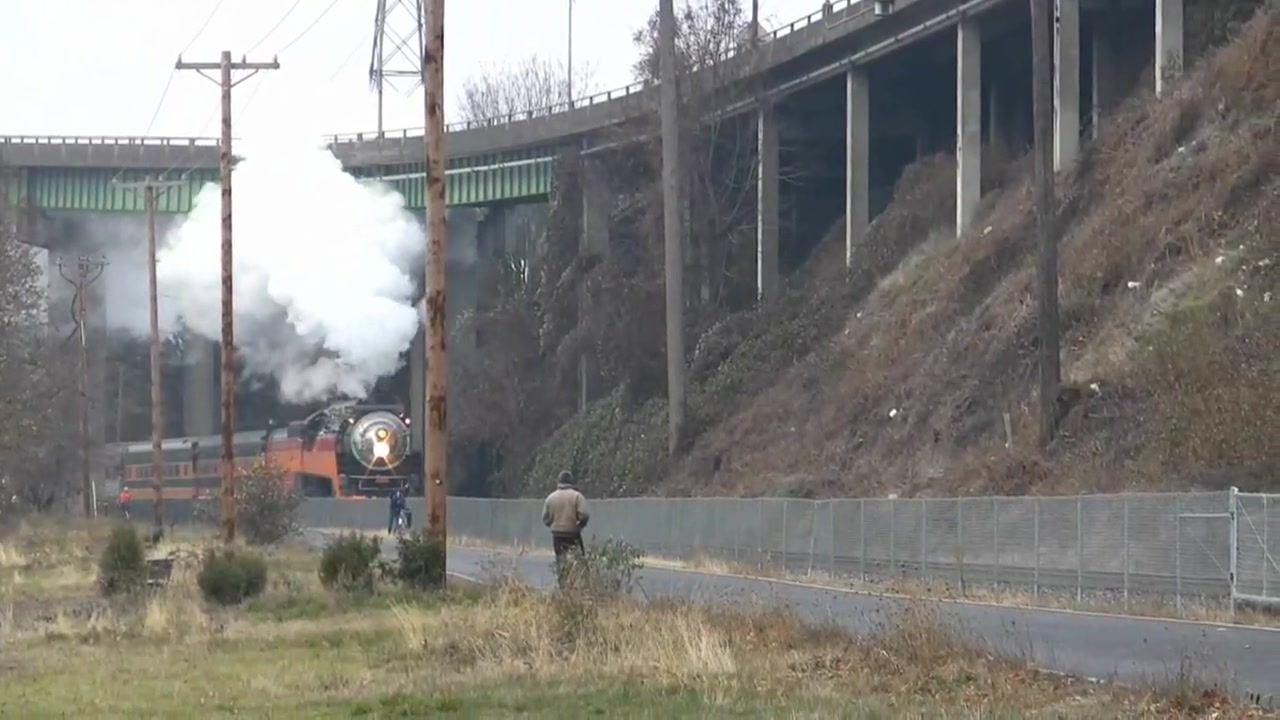train: (96, 398, 413, 511)
